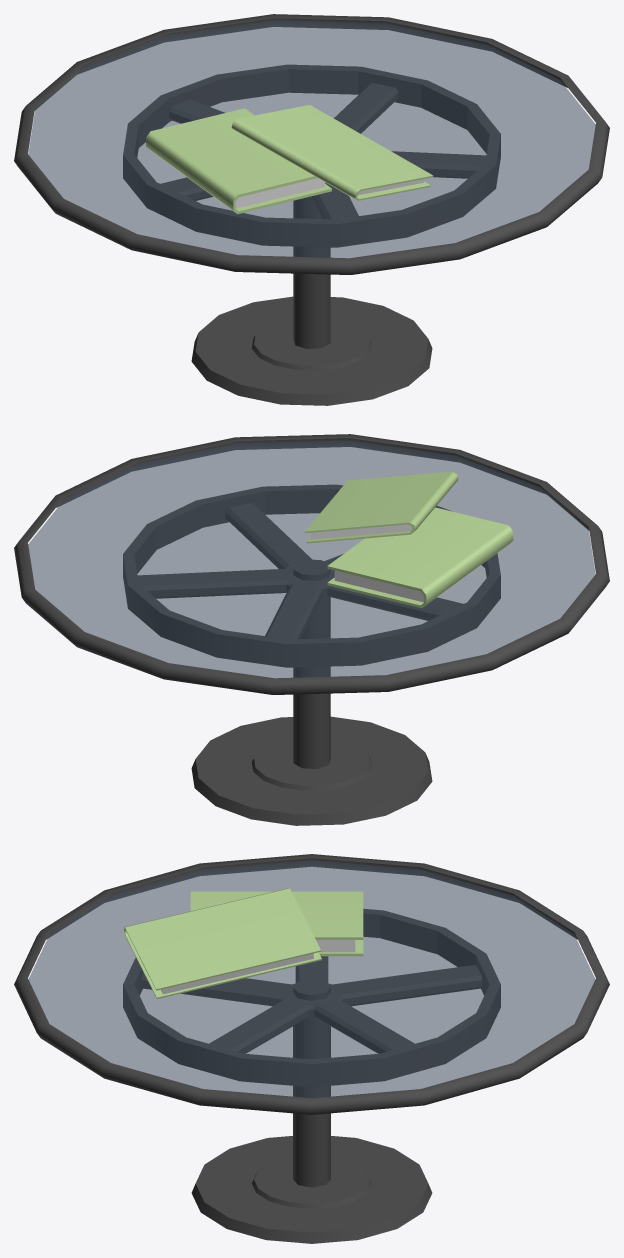
File: magazine_table_01.fbx
The picture shows the model from 3 angles, top to bottom: view 1: azimuth 30°, elevation 25°; view 2: azimuth 150°, elevation 25°; view 3: azimuth 270°, elevation 25°; orthographic projection.
Parts seen in each view (by area): view 1: polySurface53, pCylinder163, pCube621, pCube622; view 2: polySurface53, pCylinder163, pCube621, pCube622; view 3: polySurface53, pCylinder163, pCube621, pCube622.
Boxes of the visible parts, x1=… form: polySurface53: x1=28, y1=20, x2=595, y2=258; pCylinder163: x1=14, y1=14, x2=609, y2=405; pCube621: x1=146, y1=105, x2=433, y2=214; pCube622: x1=235, y1=178, x2=424, y2=208; polySurface53: x1=28, y1=440, x2=595, y2=678; pCylinder163: x1=14, y1=434, x2=609, y2=825; pCube621: x1=305, y1=471, x2=513, y2=608; pCube622: x1=310, y1=524, x2=423, y2=602; polySurface53: x1=28, y1=860, x2=595, y2=1097; pCylinder163: x1=14, y1=854, x2=609, y2=1243; pCube621: x1=124, y1=888, x2=363, y2=998; pCube622: x1=161, y1=940, x2=355, y2=994.
Size of the model in its own units: 8.2 by 3.99 by 8.2.
